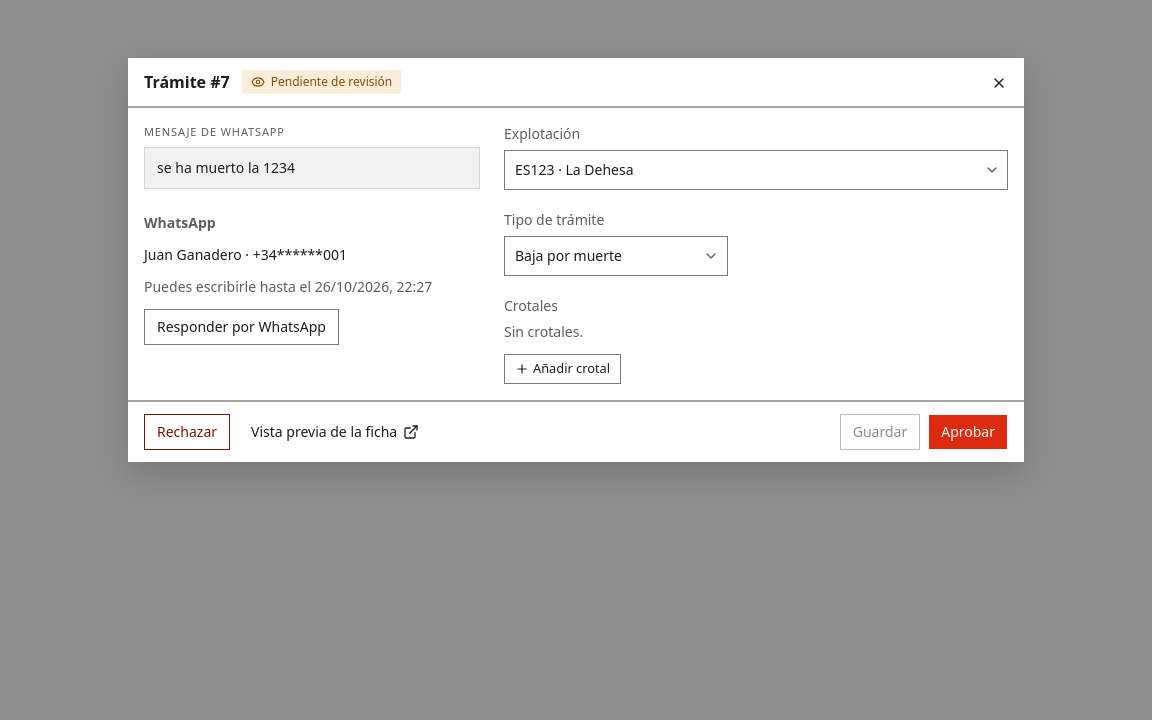
Scenario: Sección WhatsApp: el panel › al abrir: texto propuesto, foco en el texto con el hueco seleccionado, contador y pista; Enviar desactivado
expect the heading "Mensaje de WhatsApp" is shown: met, box x1=144 y1=124 x2=285 y2=139
Click the button "Responder por WhatsApp" at (241, 327), box x1=144 y1=309 x2=339 y2=345
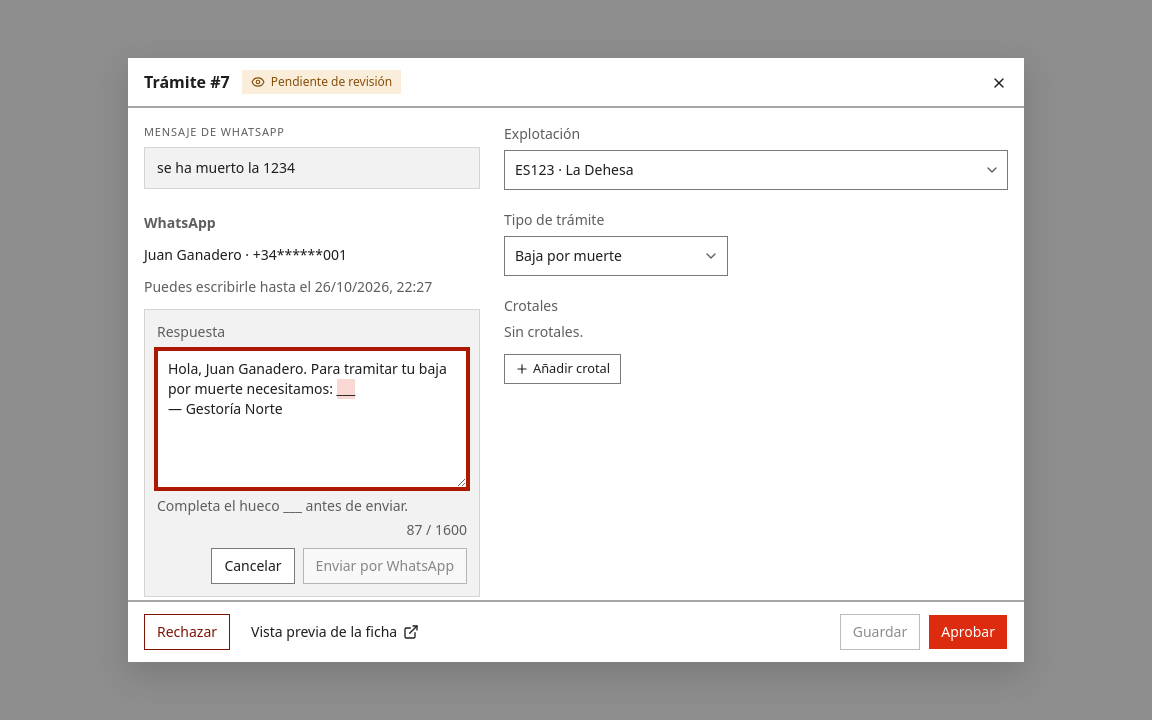
expect the text "Completa el hueco ___ antes de enviar." is shown: met, box x1=157 y1=496 x2=408 y2=516
expect the button "Enviar por WhatsApp" is disabled: met, box x1=303 y1=548 x2=467 y2=584
expect the button "Responder por WhatsApp" is gone: met
Type keys "la fecha de la muerte"
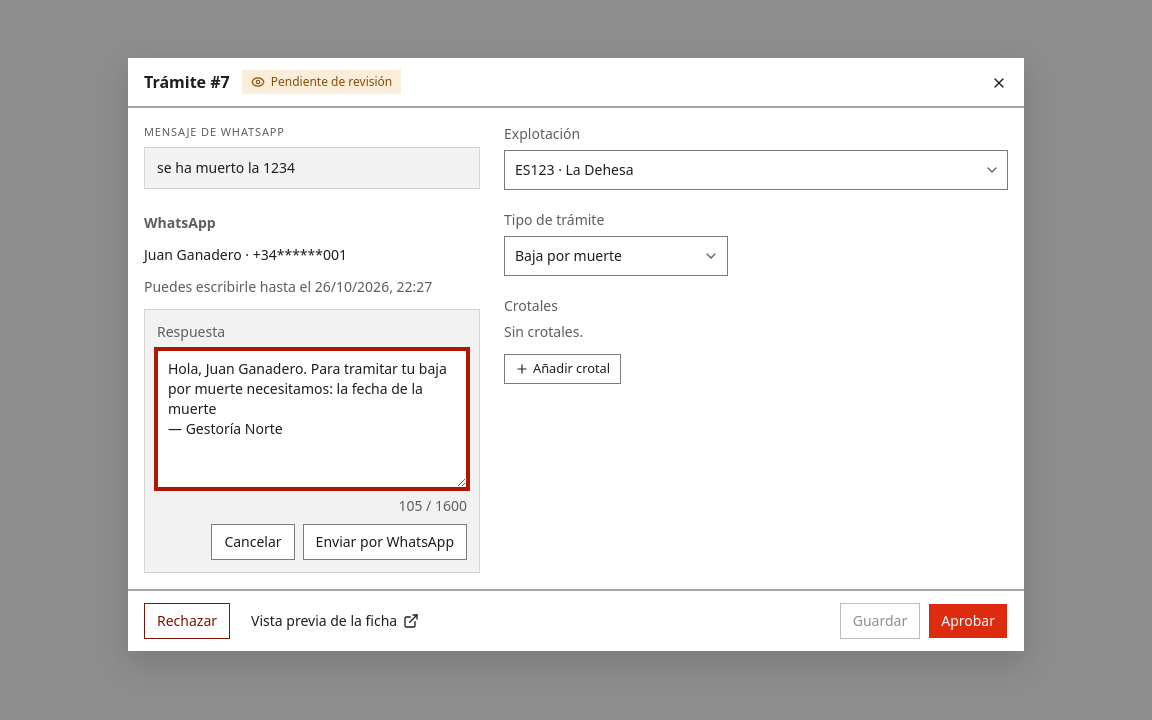
expect the text "Completa el hueco ___ antes de enviar." is gone: met
expect the button "Enviar por WhatsApp" is enabled: met, box x1=303 y1=524 x2=467 y2=560
